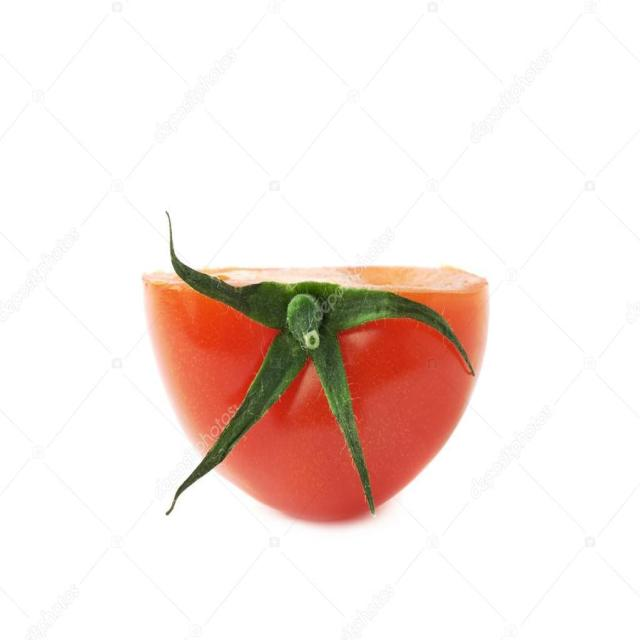Tomato: (136, 255, 493, 527)
